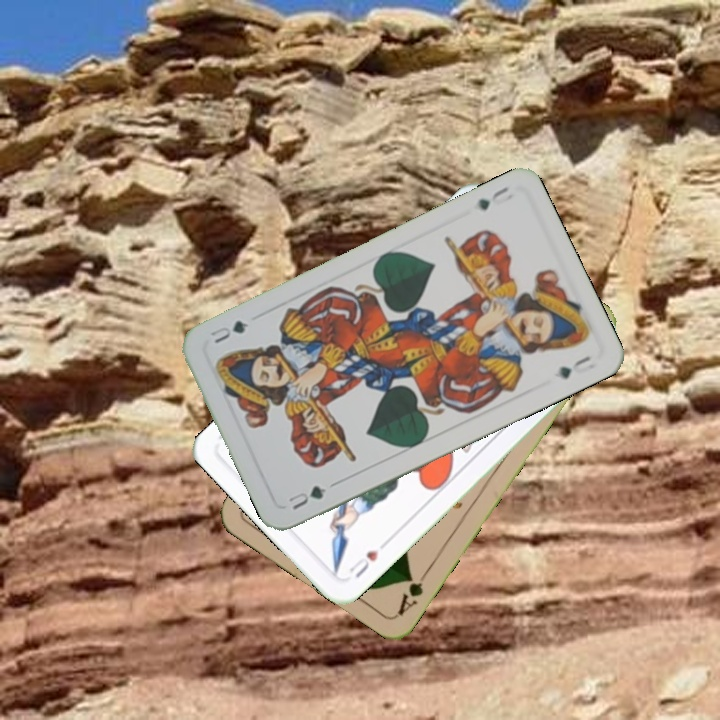GA: (393, 564, 432, 618)
GU: (282, 481, 329, 513), (473, 182, 512, 213)
HU: (345, 545, 382, 581)
